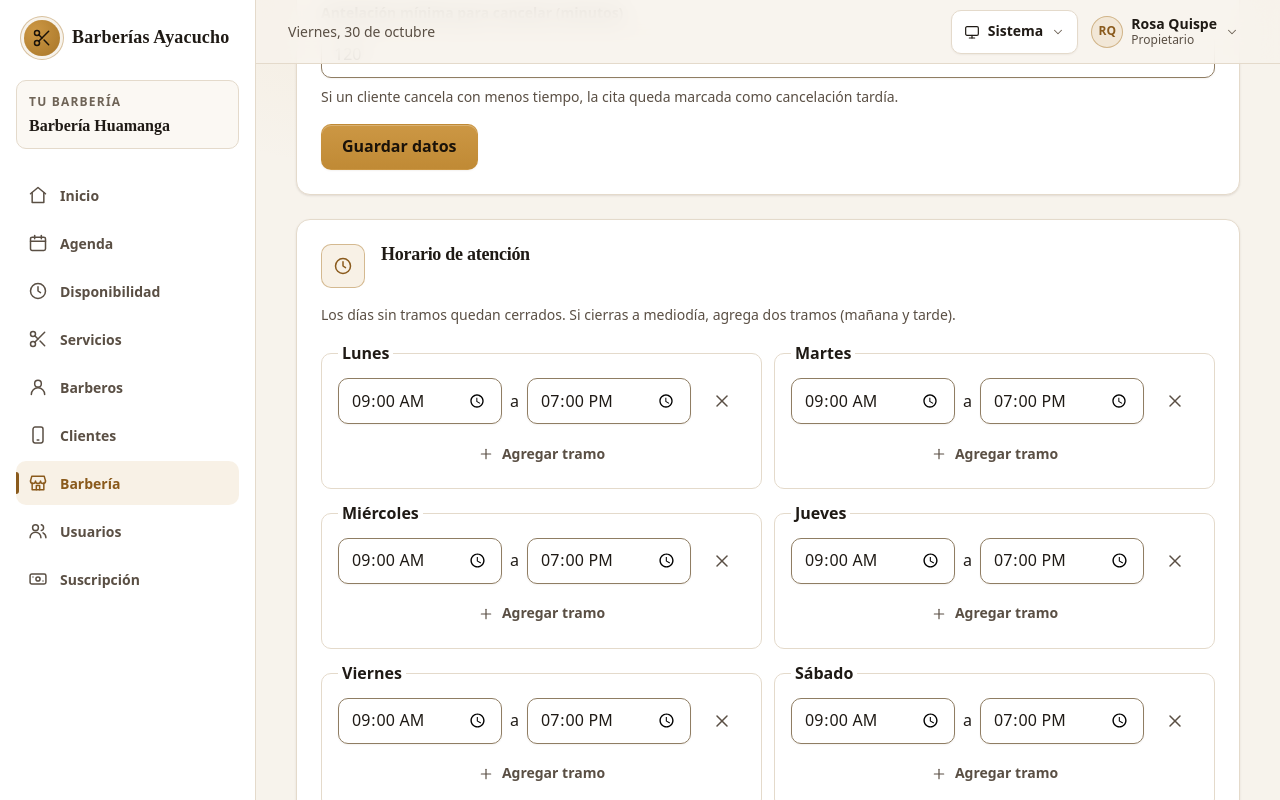
Test: Barbería (/app/barberia) › valida el horario antes de enviarlo: un cierre anterior a la apertura no se guarda
The image size is (1280, 800).
(page scrolled)
Step 1. Replace the text in the time field named "Lunes, cierre del tramo 1" with "08:00" → (609, 401), box [527,378,691,424]
(page scrolled)
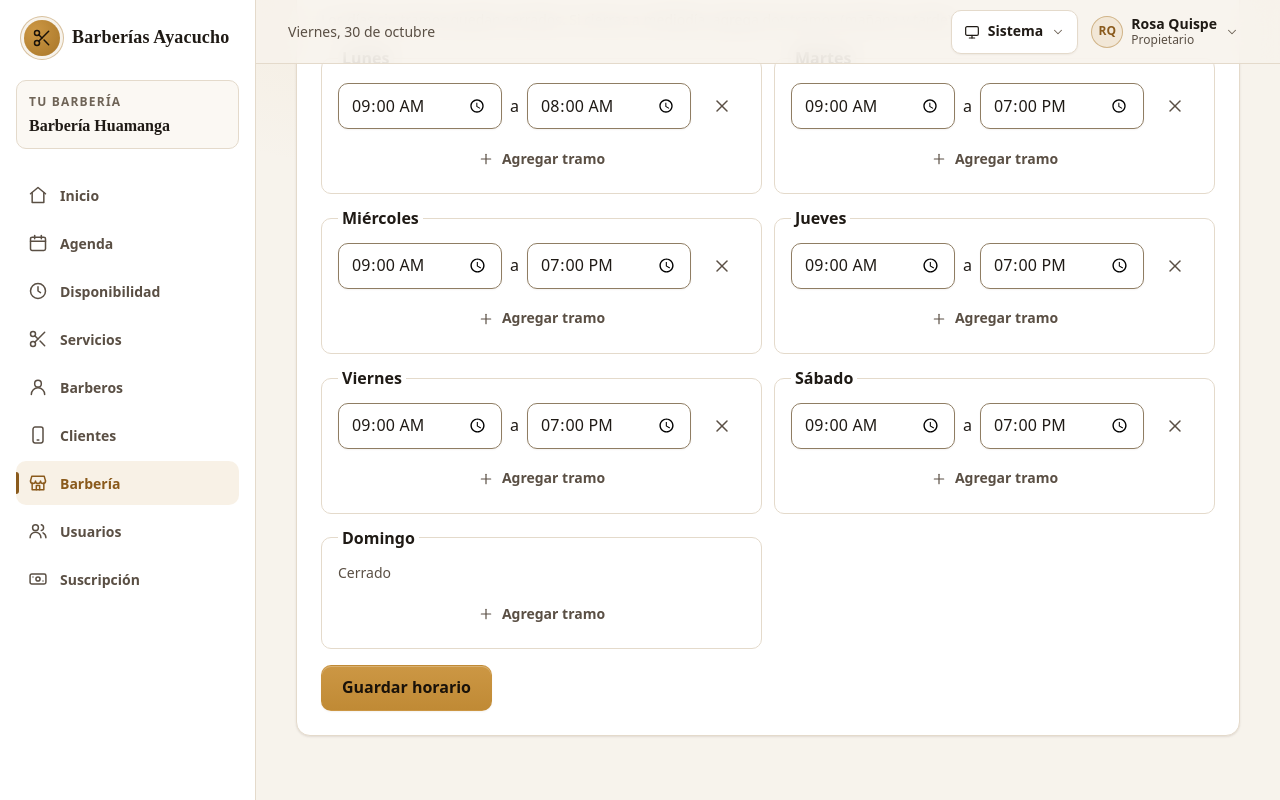
Step 2. Click the button "Guardar horario" → (406, 688), box [321,665,492,711]
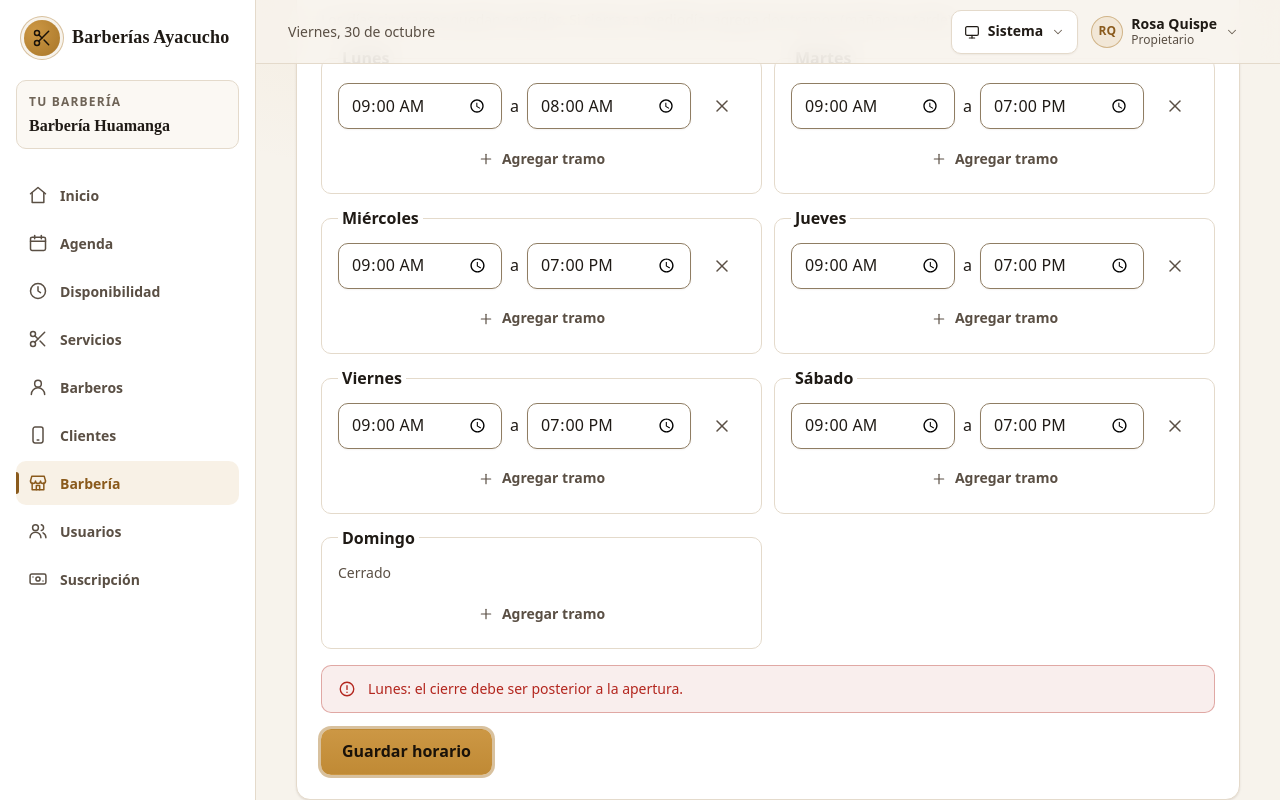
Result: the text "Lunes: el cierre debe ser posterior a la apertura." is shown at [368,678,683,700]
